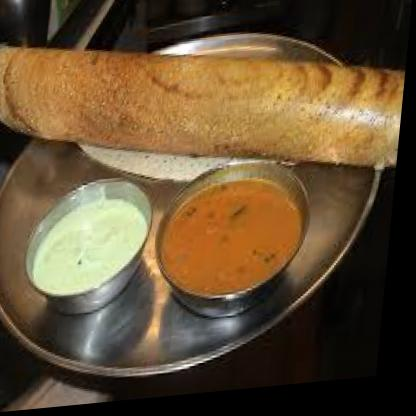dosa: (0, 14, 413, 208)
